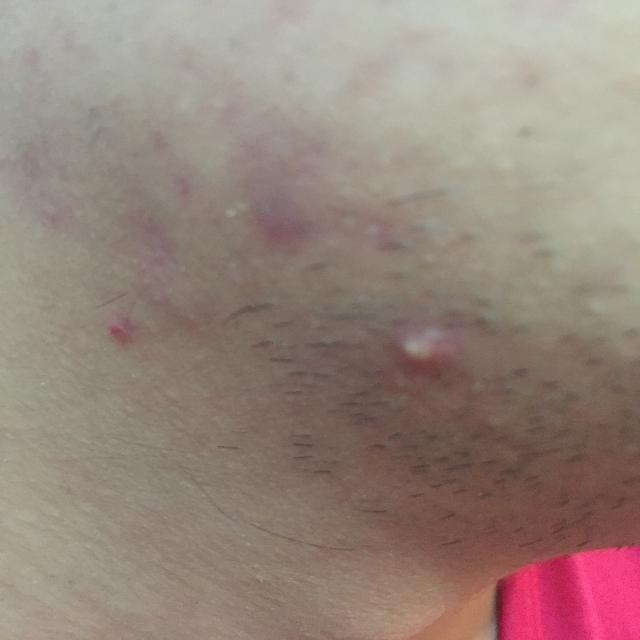Pimples: (377, 307, 484, 396)
